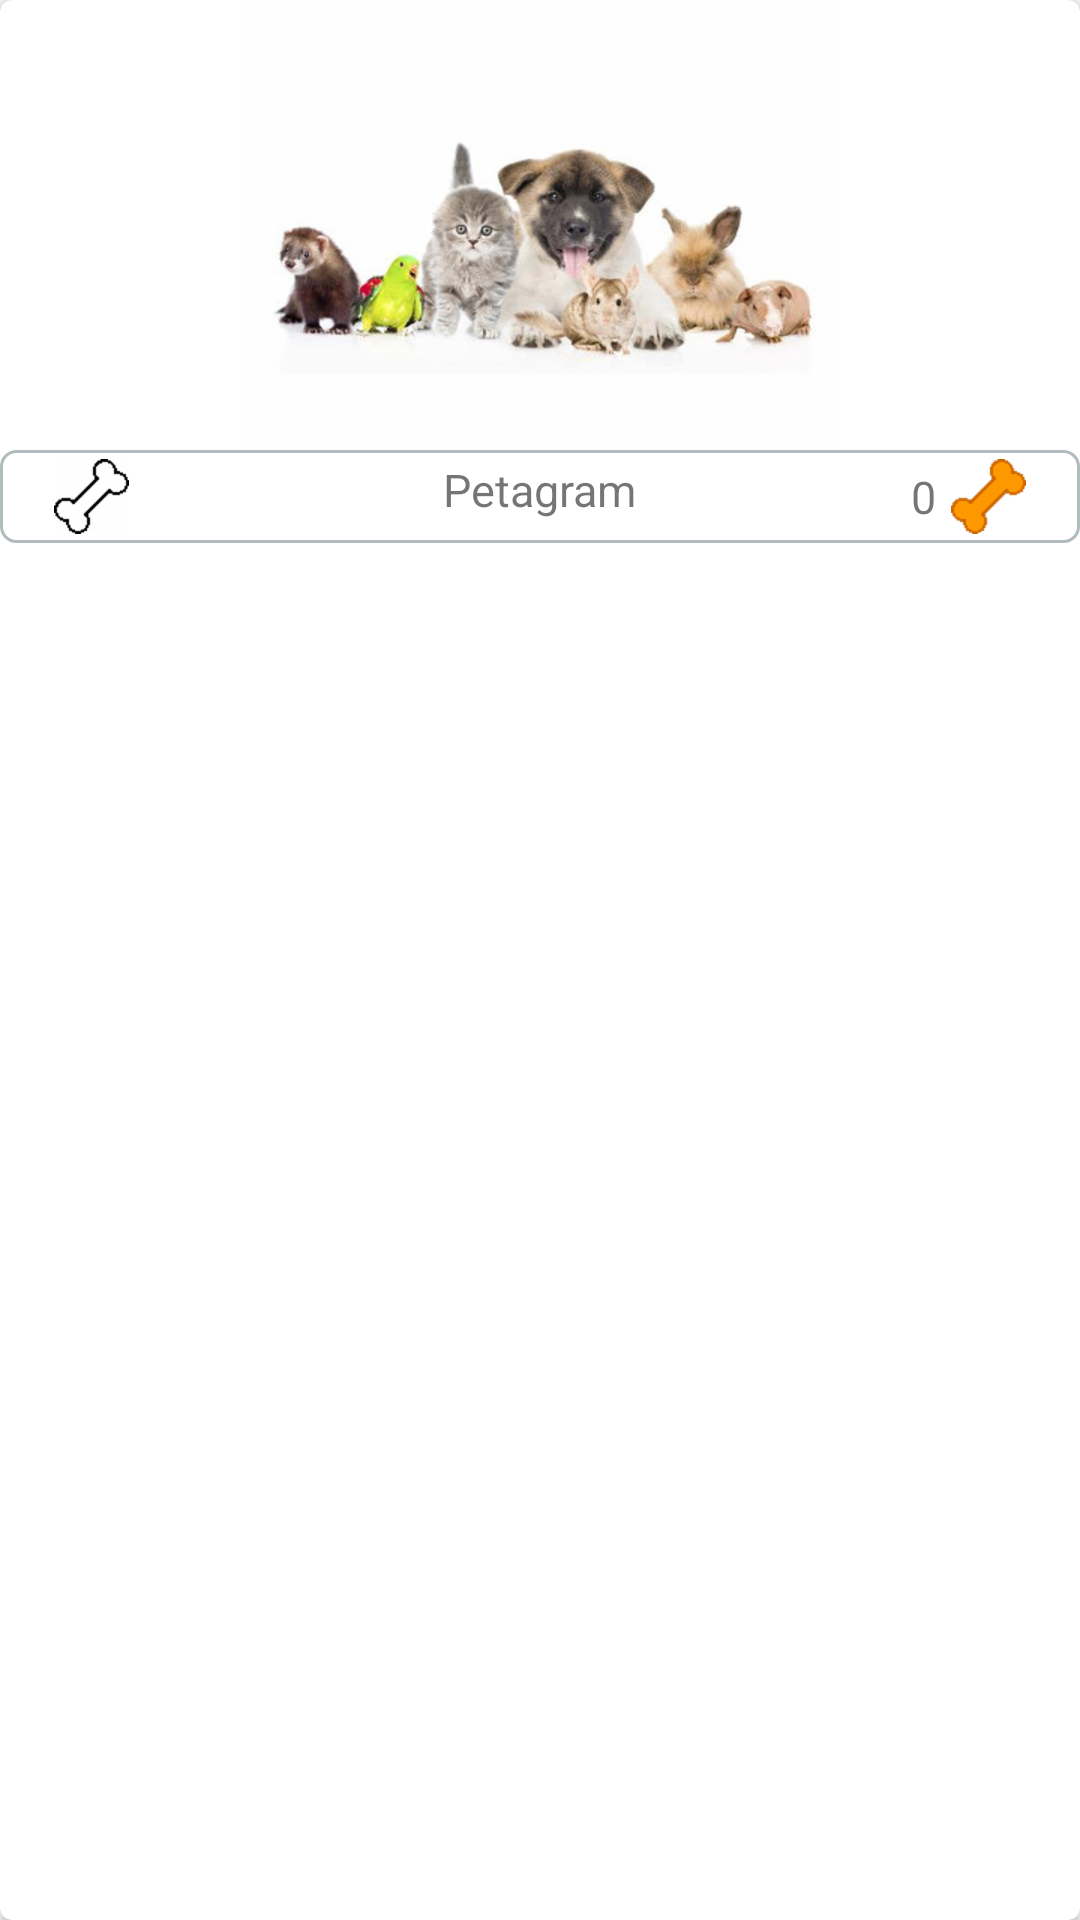

Locate icon controls on the screen. Image size 1080w x 1920h, boxes as {"x1": x1, "y1": y1, "x2": x2, "y2": y2}.
dog bone: {"x1": 54, "y1": 459, "x2": 129, "y2": 534}
dog bone rating: {"x1": 951, "y1": 459, "x2": 1026, "y2": 534}
